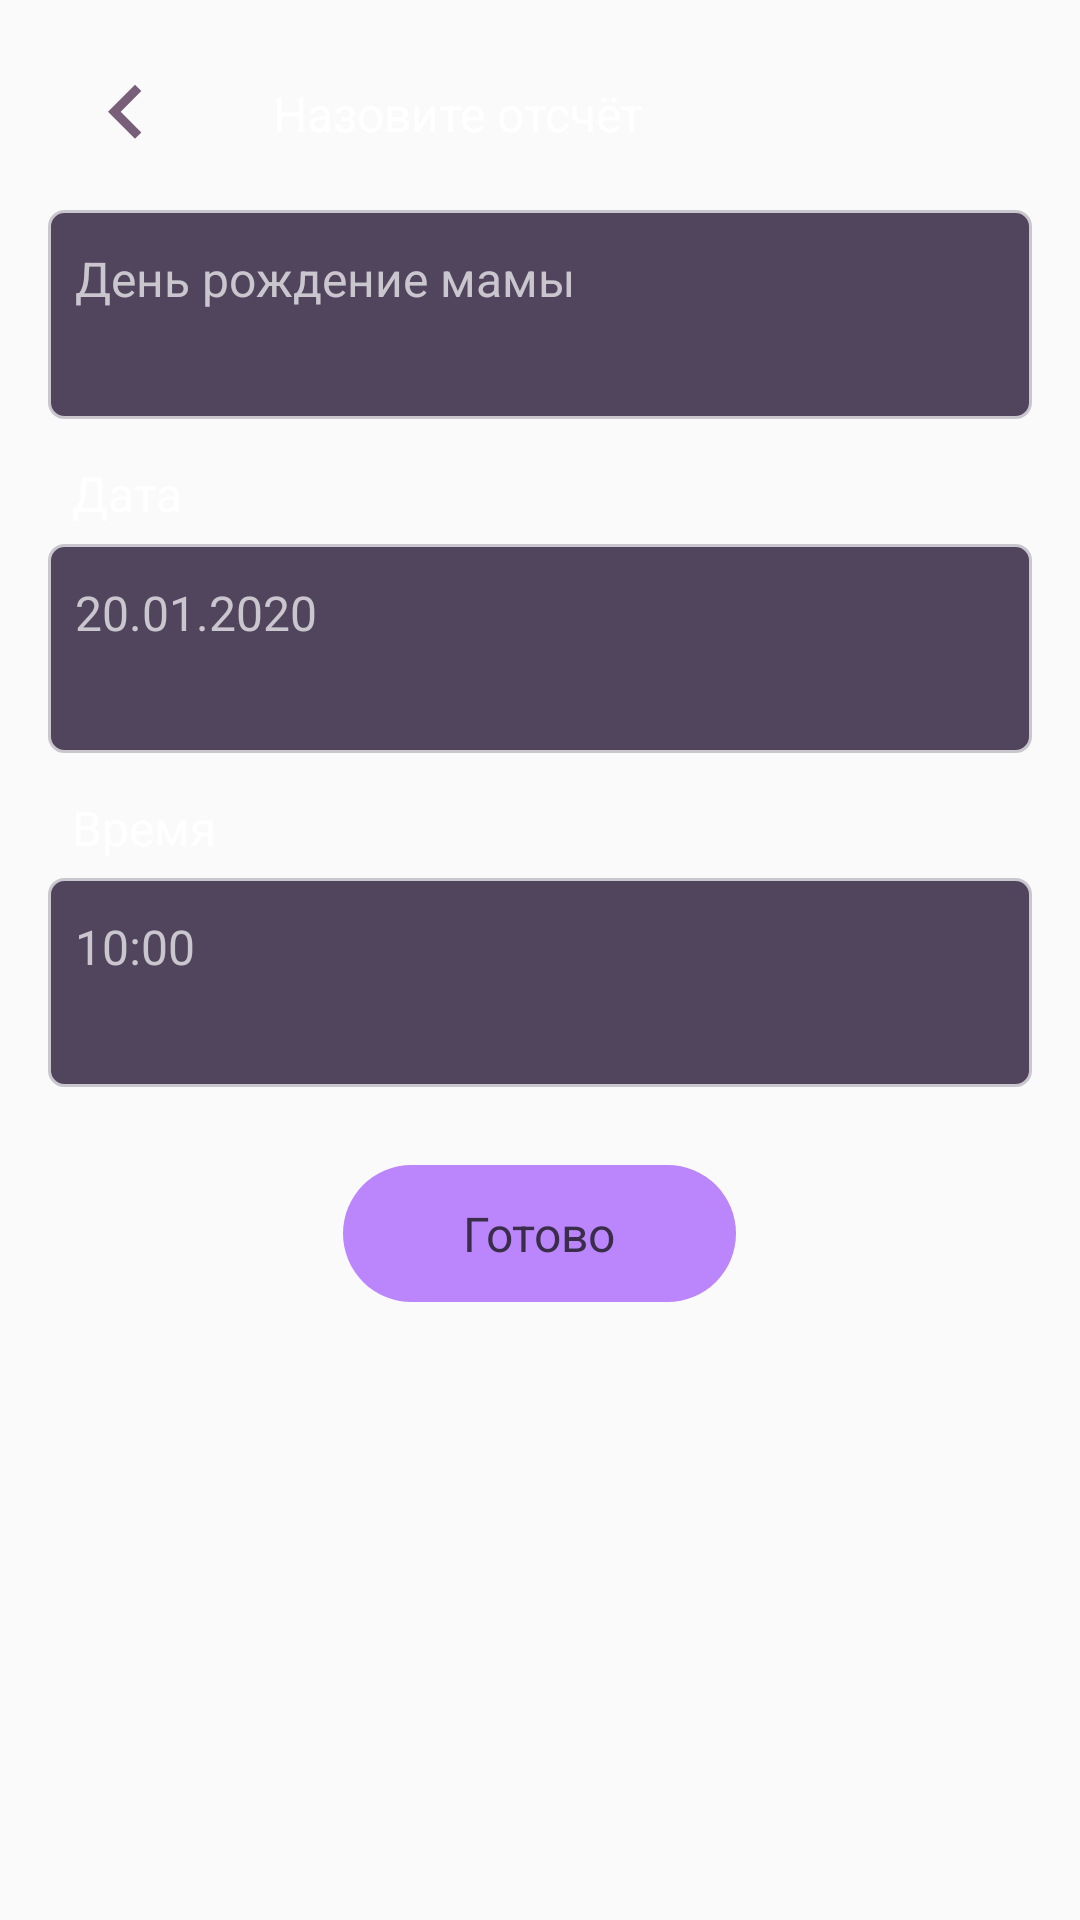

Icons on this 1080px×1920px Android screen, each with its box as (x1, y1, x2, y2):
arrow back: (108, 85, 141, 139)
